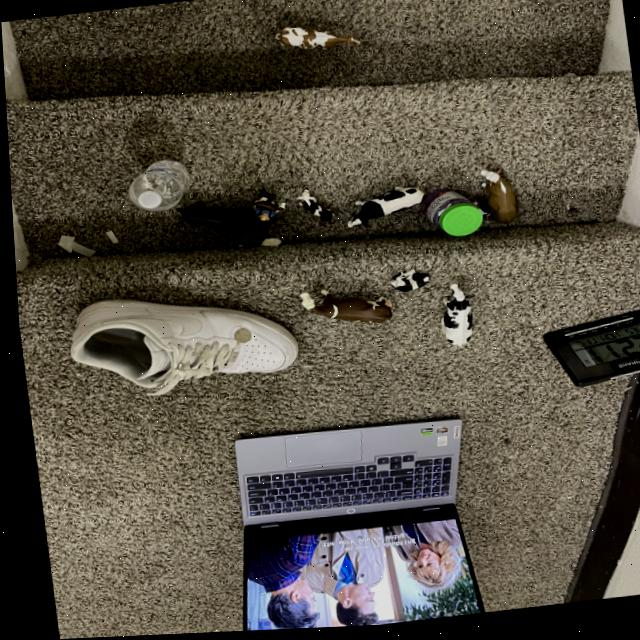cow: (293, 288, 390, 332), (338, 182, 423, 231), (172, 200, 271, 238), (273, 26, 360, 58), (435, 286, 469, 352), (478, 171, 514, 229), (291, 190, 332, 230), (384, 268, 428, 299), (250, 202, 283, 212)
person: (249, 208, 275, 226)
